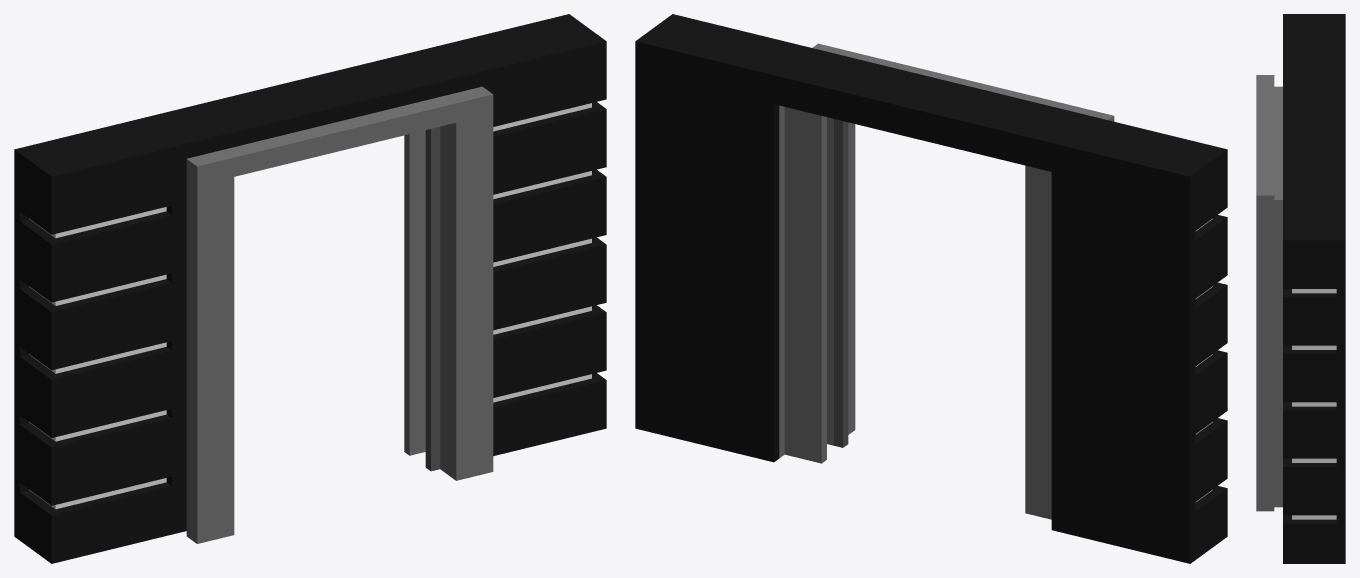
Rendered from Elevator Wall.obj.
3 renders of one model, left to right at view 1: azimuth 30°, elevation 25°; view 2: azimuth 150°, elevation 25°; view 3: azimuth 270°, elevation 25°, orthographic. The views are drawn at different scales.
Size of the model in its own units: 60 by 40 by 10.
1 material, 1 textured.
